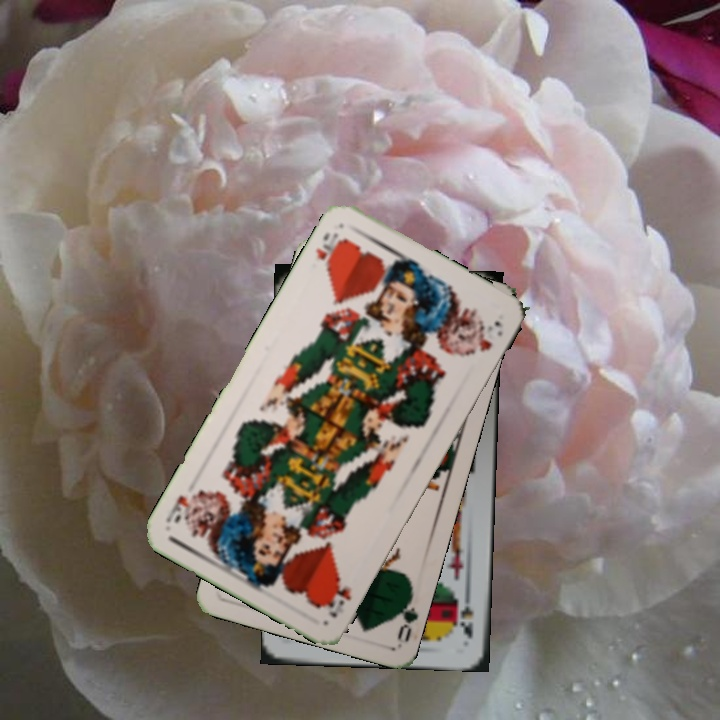GO: (390, 584, 420, 645)
HO: (311, 228, 348, 273), (321, 574, 354, 621)
SK: (456, 586, 476, 641)
